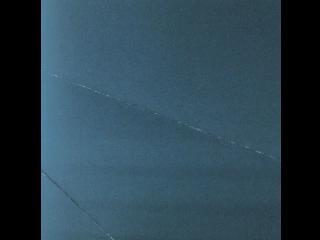crack: (41, 66, 281, 166), (40, 169, 116, 240)
